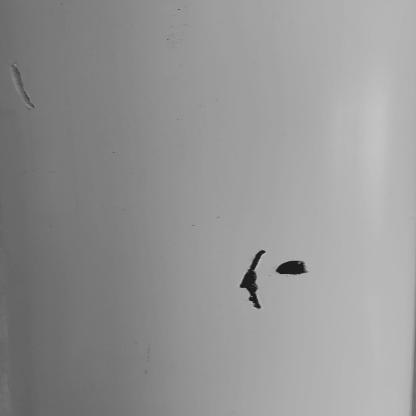kongdong: (238, 250, 267, 310), (275, 261, 307, 275)
sunshang: (9, 64, 38, 113)
